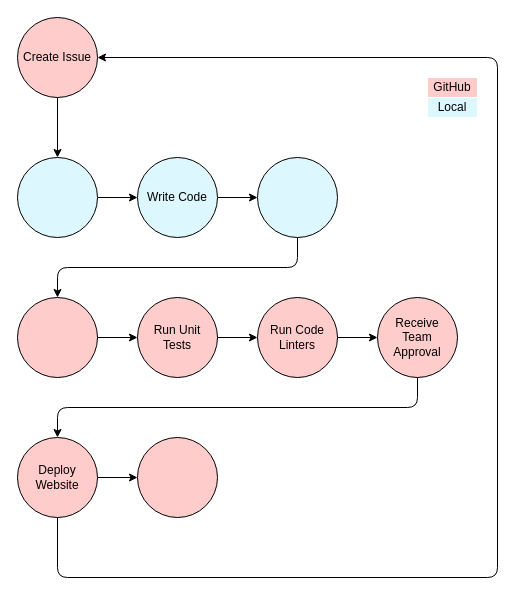
The diagram is 523 pixels wide and 603 high, and some of its shapes have lost their labels. The shapes that lost their labels are listed below. From the top down, each one's centre as x and y in pixels, then its label:
the point at 57,197: Branch
the point at 297,197: Commit to Branch
the point at 57,337: Pull Request
the point at 177,477: Deploy Document- ation
